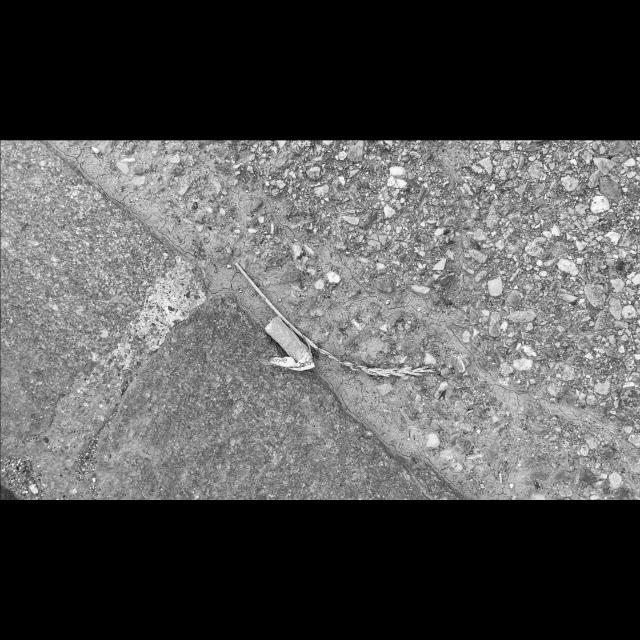cigarette: (264, 315, 314, 371)
